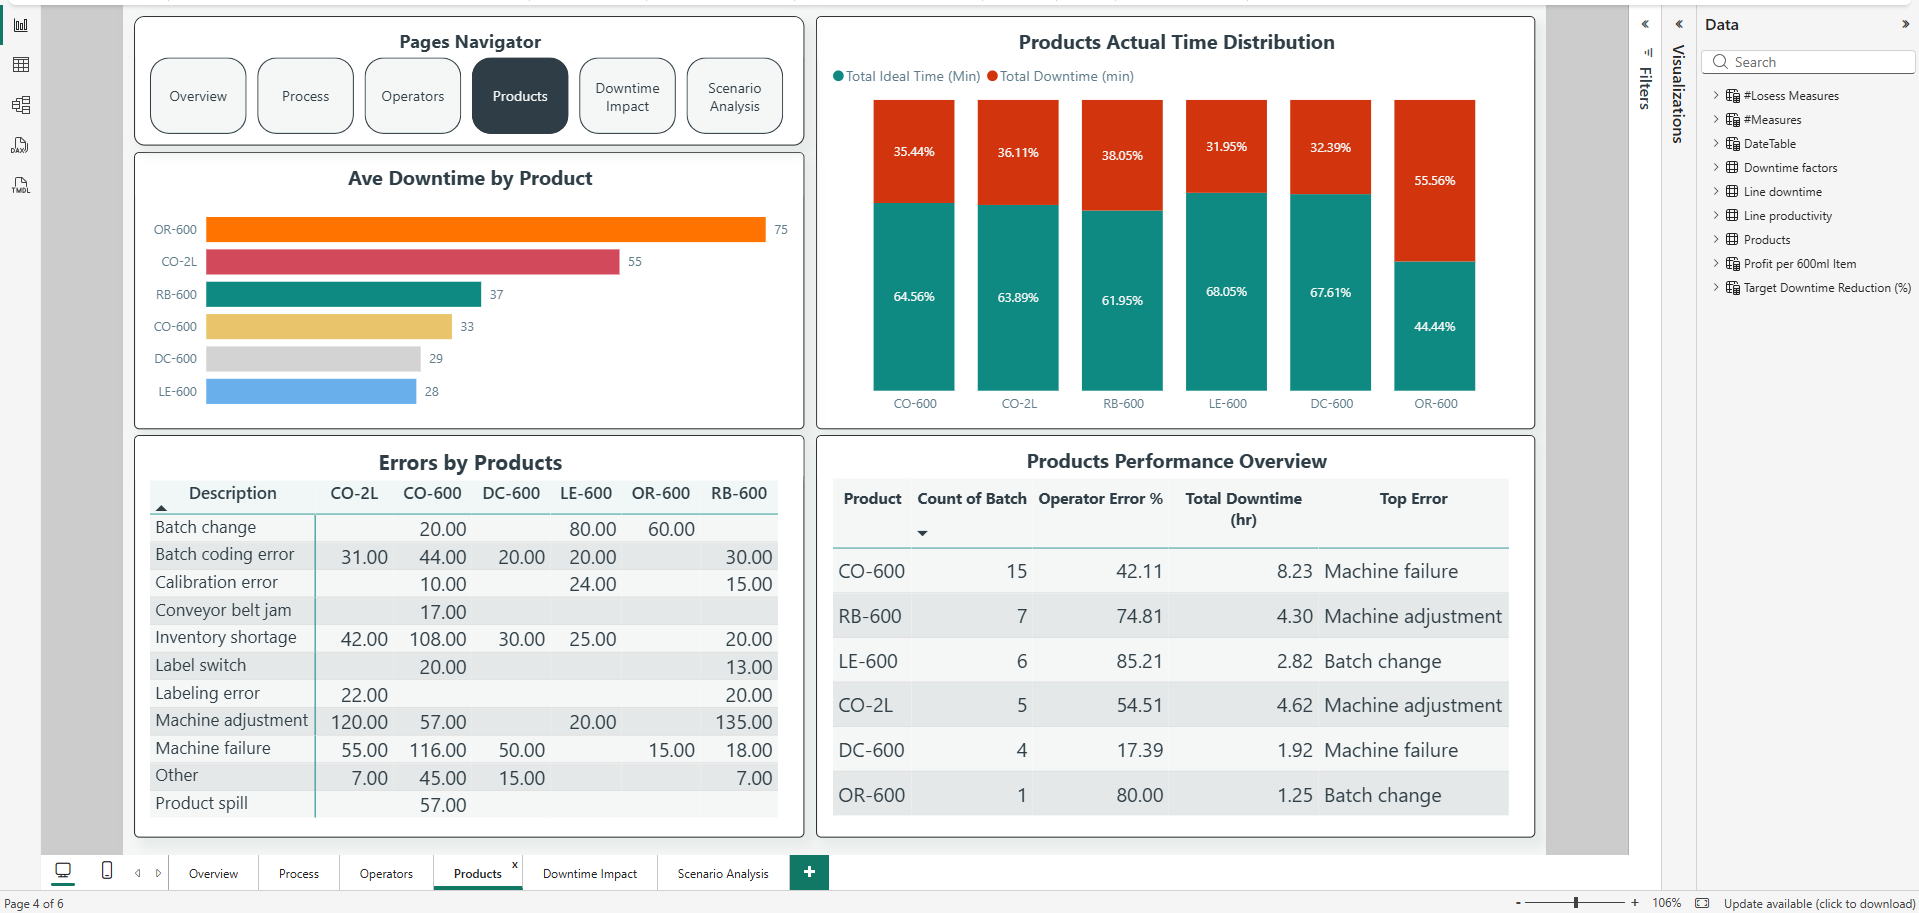

The dashboard page shown, as its layout file describes it:
{"tool":"powerbi","page":{"name":"Products","canvas":[1340,800],"ordinal":3},"visuals":[{"type":"hundredPercentStackedColumnChart","title":"Products Actual Time Distribution","fields":{"Category":["Products.Product"],"Y":["#Measures.Total Ideal Time (Min)","#Measures.Total Downtime (min)"]},"box":[652,10,677,389],"z":0},{"type":"barChart","title":"Ave Downtime by Product","fields":{"Y":["#Measures.Ave Downtime per Batch"],"Category":["Products.Product"]},"box":[10,138,631,261],"z":1000},{"type":"pivotTable","title":"Errors by Products","fields":{"Rows":["Downtime factors.Description"],"Values":["#Measuress.Total Downtime (min)"],"Columns":["Products.Product"]},"box":[10,405,631,379],"z":2000},{"type":"tableEx","title":"Products Performance Overview","fields":{"Values":["Products.Product","Line productivity.Batch","#Measures.Operator Error %","#Measures.Total Downtime (hr)","#Measures.Topp Error"]},"box":[652,405,677,379],"z":5000},{"type":"pageNavigator","title":"Pages Navigator","box":[10,10,631,122],"z":6000}]}

Visuals, with their boxes on the page's 1340x800 design canvas (x1, y1, x2, y2). These are canvas units, not pixel positions in the 1919x913 screenshot, which may show the page scaled, cropped or inside an application window:
"Products Actual Time Distribution" hundredPercentStackedColumnChart: crop(652, 10, 1329, 399)
"Ave Downtime by Product" barChart: crop(10, 138, 641, 399)
"Errors by Products" pivotTable: crop(10, 405, 641, 784)
"Products Performance Overview" tableEx: crop(652, 405, 1329, 784)
"Pages Navigator" pageNavigator: crop(10, 10, 641, 132)
